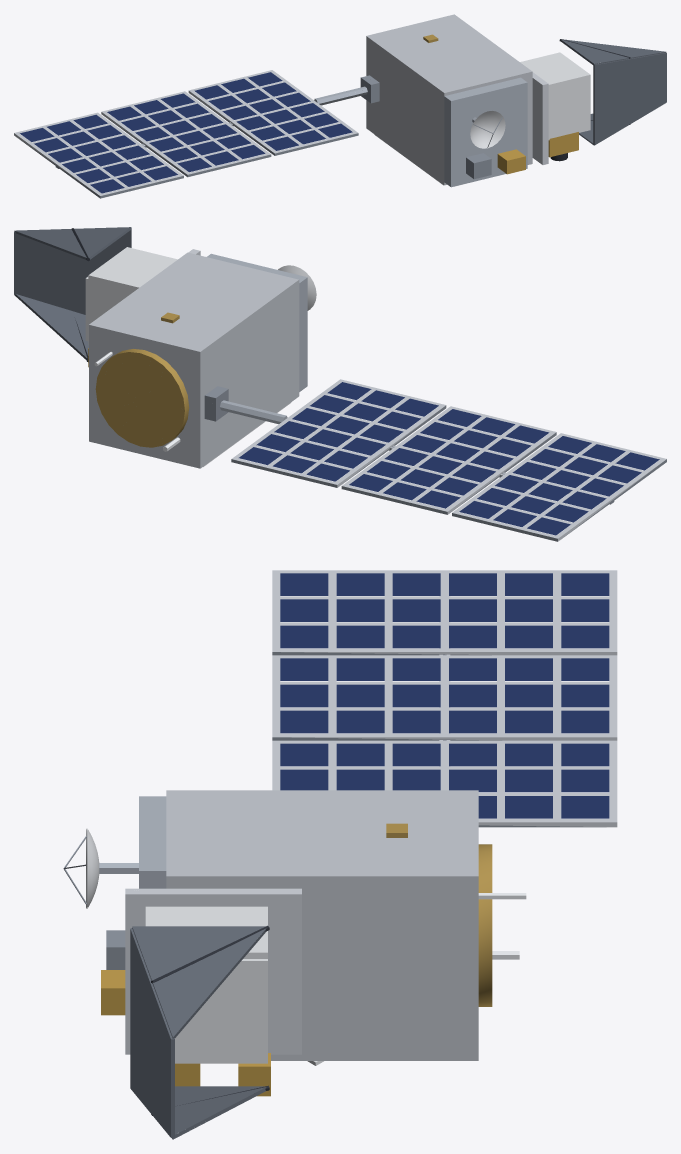
Rendered from pace.glb.
The picture shows the model from 3 angles, top to bottom: view 1: azimuth 30°, elevation 25°; view 2: azimuth 150°, elevation 25°; view 3: azimuth 270°, elevation 25°; orthographic projection. The views are drawn at different scales.
Parts seen in each view (by area): view 1: body, solar-panel, foil; view 2: body, foil, solar-panel; view 3: body, foil, solar-panel.
Boxes of the visible parts, x1,y1,x2,y2 form: body: (14, 34, 666, 198); solar-panel: (20, 72, 352, 193); foil: (366, 14, 578, 185); body: (14, 227, 666, 541); foil: (88, 252, 299, 468); solar-panel: (239, 382, 659, 535); body: (63, 570, 617, 1139); foil: (101, 790, 478, 1096); solar-panel: (280, 573, 609, 818).
Bounding box in the file's own units: 9.2 × 1.59 × 4.08.
